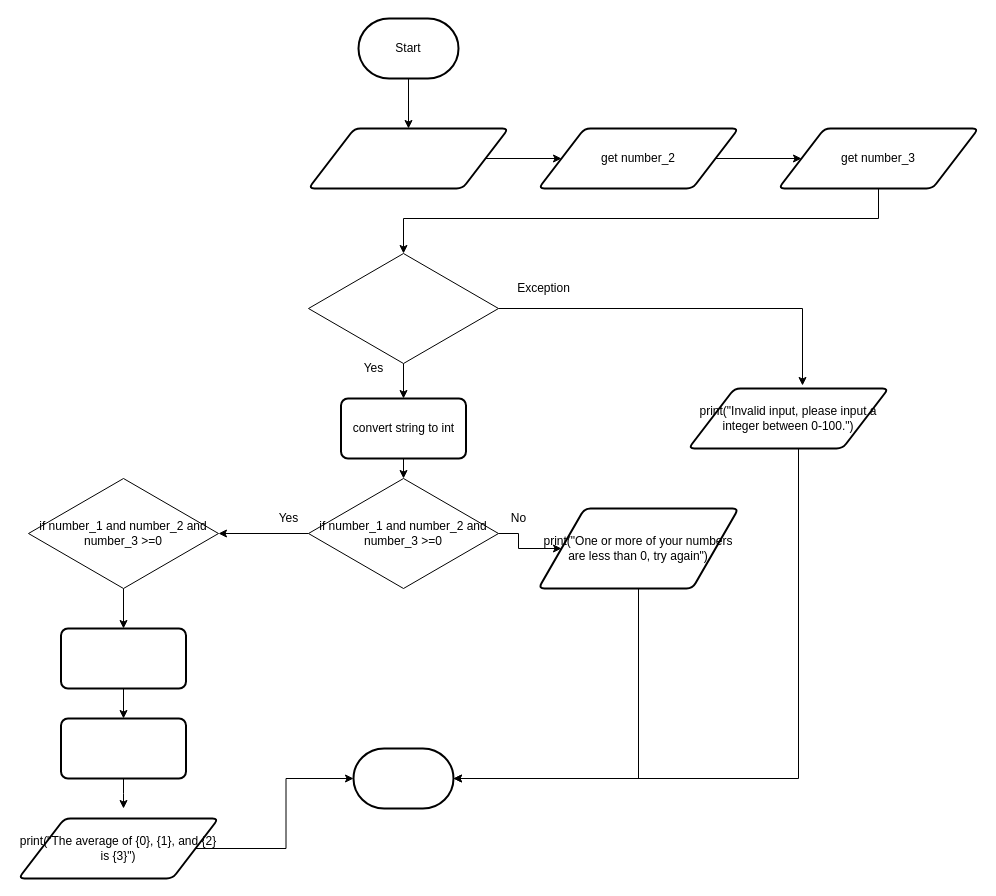
Some shapes in this 996 by 896 pixel diagram are drawn without their labels. The box of each missing label's shape, as (x1, y1, x2, y2) in pixels:
add_int = add_int/3: (60, 717, 186, 779)
add_int = number_1 + number_2 + number_3: (60, 627, 186, 689)
get number_1: (307, 127, 509, 189)
Stop: (352, 747, 454, 809)
try: (308, 252, 498, 364)
